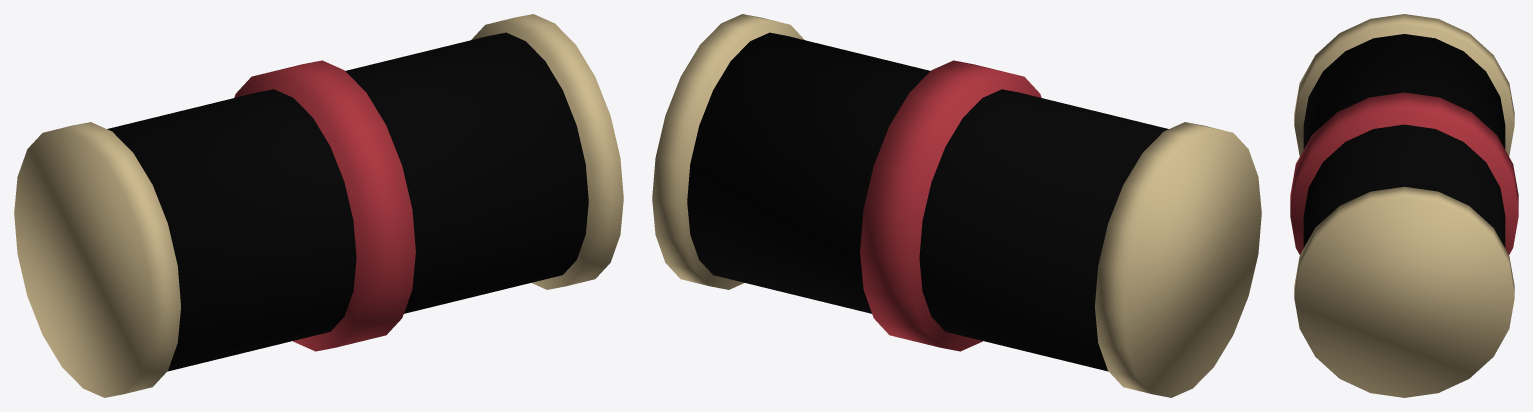
File: scroll.glb
3 renders of one model, left to right at view 1: azimuth 30°, elevation 25°; view 2: azimuth 150°, elevation 25°; view 3: azimuth 270°, elevation 25°, orthographic. The views are drawn at different scales.
Visible parts, largest first — view 1: scroll; view 2: scroll; view 3: scroll.
Part boxes in pixels (x1,y1,x2,y2): scroll: (14,14,623,397); scroll: (652,14,1261,397); scroll: (1290,14,1518,397).
Size of the model in its own units: 0.324 by 0.17 by 0.17.
